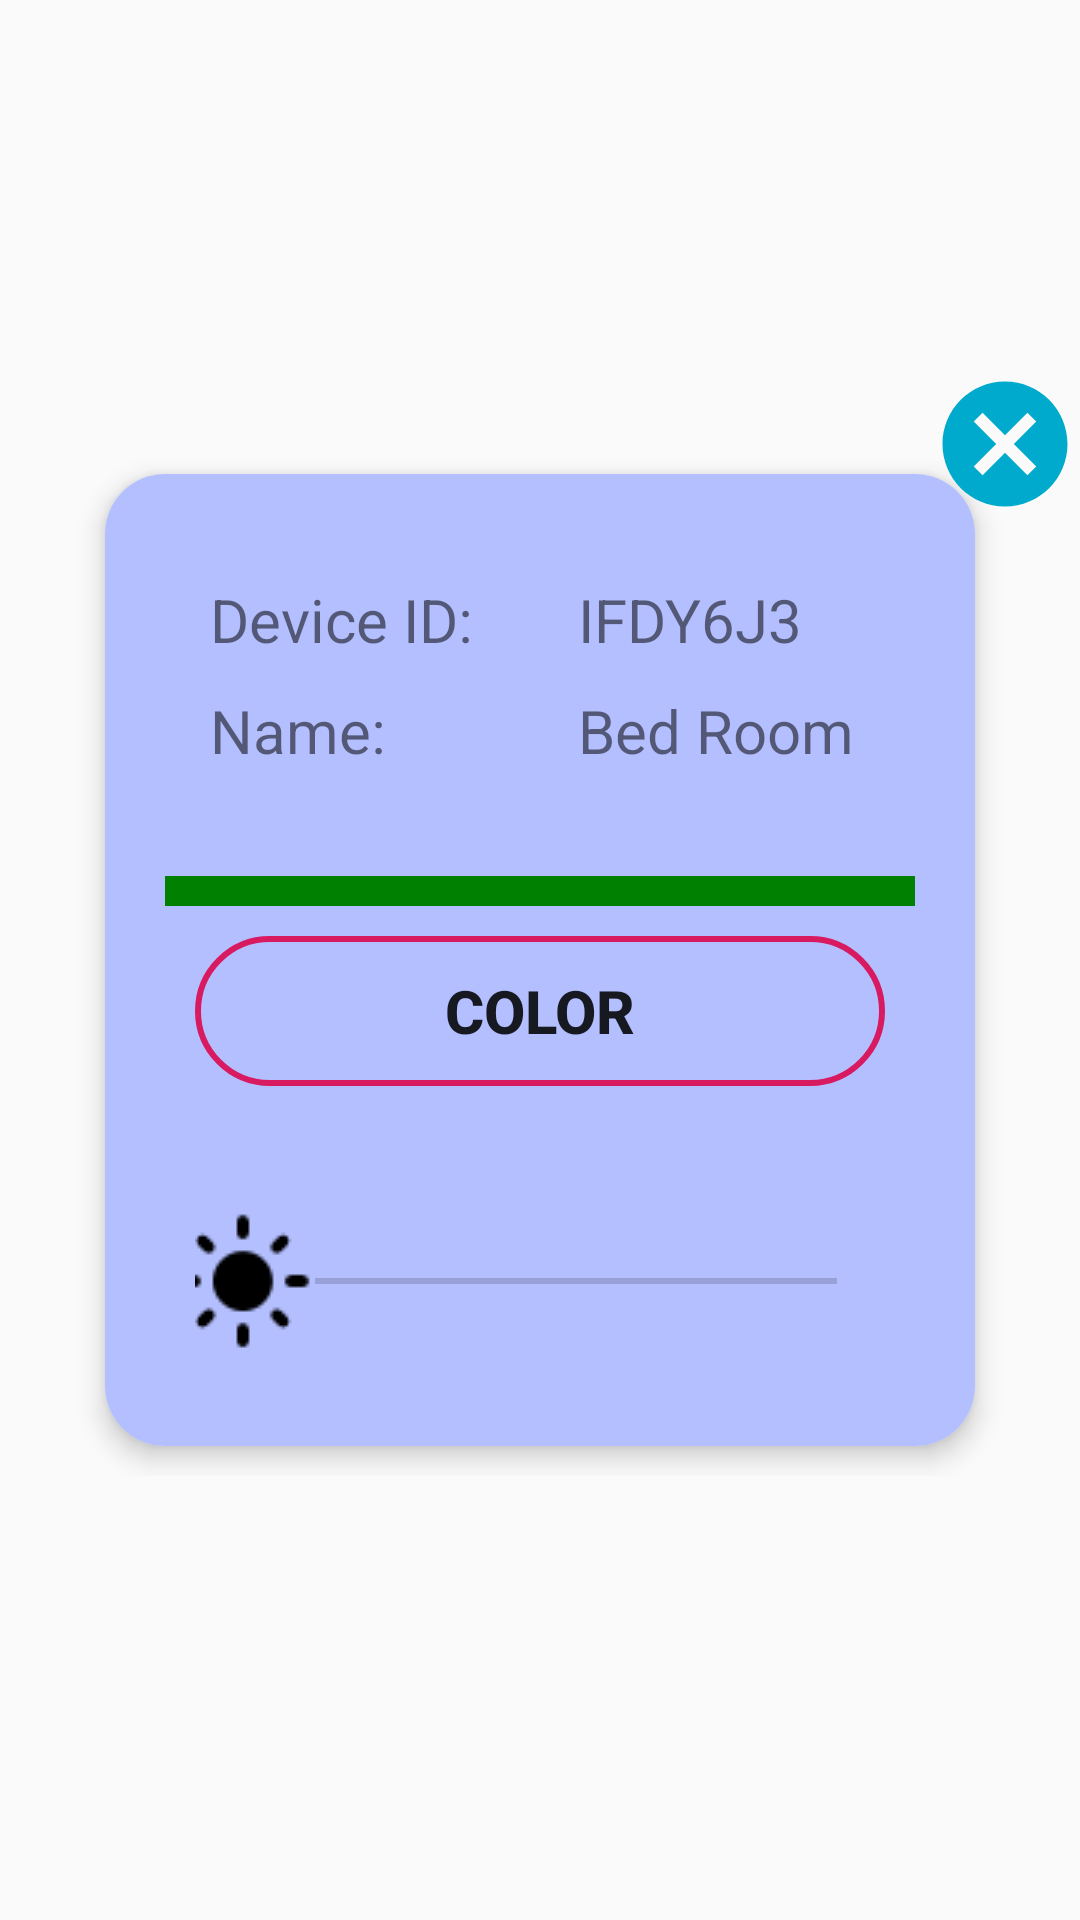

Where to tap for icons on this 1080px×1920px app screen, as (x=x, y=y):
cancel: (x=1005, y=444)
